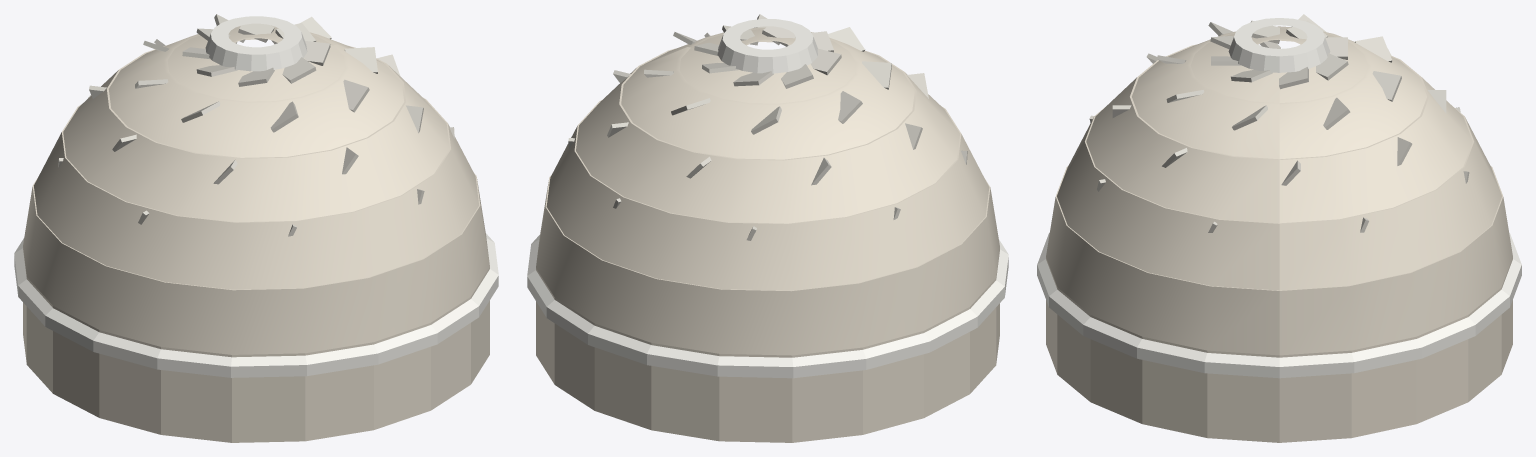
Rendered from roman-bathhouse-and-palaestra-dome-section-with-oculus-707ed5a8__37868.glb.
The picture shows the model from 3 angles, left to right: view 1: azimuth 30°, elevation 25°; view 2: azimuth 150°, elevation 25°; view 3: azimuth 270°, elevation 25°; orthographic projection.
Visible parts, largest first — view 1: dome-section-with-oculus; view 2: dome-section-with-oculus; view 3: dome-section-with-oculus.
Boxes of the visible parts, bbox=[...] form: dome-section-with-oculus: bbox=[14, 14, 498, 442]; dome-section-with-oculus: bbox=[527, 14, 1008, 442]; dome-section-with-oculus: bbox=[1037, 14, 1521, 442].
Bounding box in the file's own units: 5.52 × 3.86 × 5.52.
